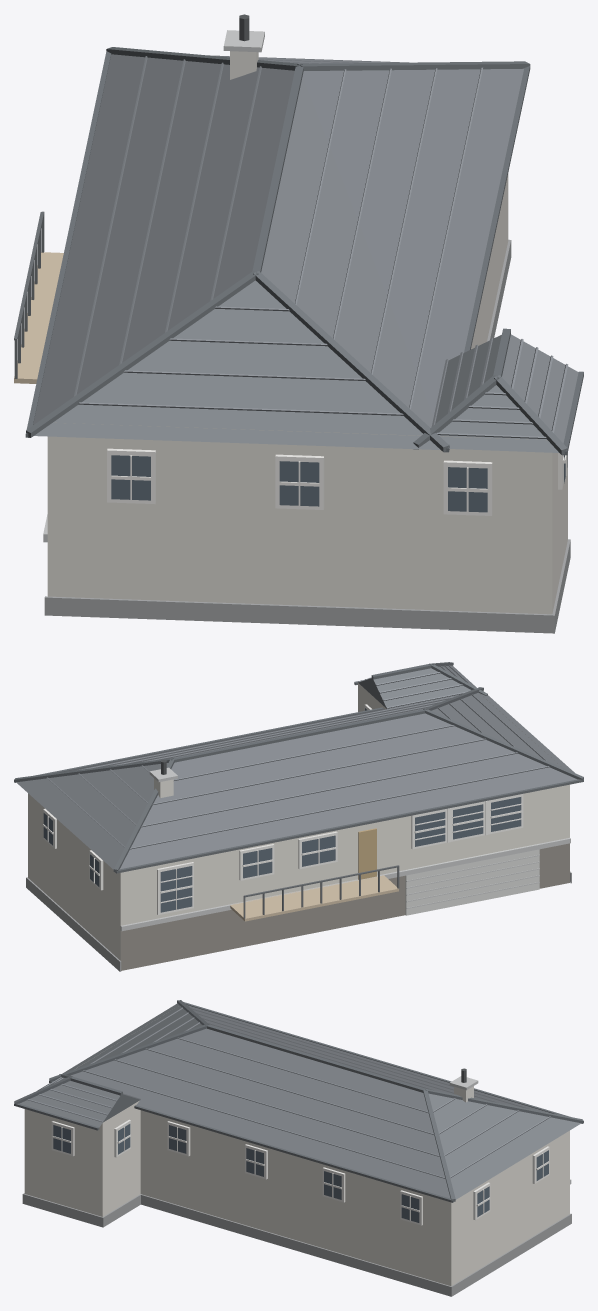
3 views of the same model, one above another, from view 1: azimuth 30°, elevation 25°; view 2: azimuth 150°, elevation 25°; view 3: azimuth 270°, elevation 25° (orthographic). The views are drawn at different scales.
Visible parts, largest first — view 1: slate, harl_grey, slate_dk, slate_lt, plinth, frame, larch, window_glass_008, window_glass_007, window_glass_009, band_dark, stone_band; view 2: slate, harl_grey, rubble_dk, slate_dk, slate_lt, door_cad, frame, stone_band, larch, window_glass_001, plinth, band_dark (+6 smaller); view 3: slate, harl_grey, slate_dk, plinth, slate_lt, frame, window_glass_015, window_glass_010, window_glass_013, window_glass_014, window_glass_012.
Part boxes in pixels (x1,y1,x2,y2): slate: (33, 54, 578, 452); harl_grey: (47, 173, 567, 614); slate_dk: (25, 47, 583, 455); slate_lt: (74, 56, 568, 438); plinth: (44, 239, 570, 633); frame: (107, 448, 567, 515); larch: (14, 252, 63, 383); window_glass_008: (279, 461, 319, 506); window_glass_007: (111, 455, 150, 500); window_glass_009: (448, 467, 487, 512); band_dark: (14, 211, 44, 378); stone_band: (43, 30, 264, 542); slate: (16, 665, 577, 869); harl_grey: (28, 683, 569, 960); rubble_dk: (120, 843, 569, 970); slate_dk: (14, 662, 583, 873); slate_lt: (47, 665, 549, 849); door_cad: (405, 844, 539, 915); frame: (43, 704, 523, 914); stone_band: (120, 767, 570, 931); larch: (230, 875, 398, 921); window_glass_001: (160, 866, 192, 912); plinth: (26, 871, 571, 971); band_dark: (243, 865, 399, 918); slate: (19, 1003, 580, 1199); harl_grey: (24, 1043, 569, 1285); slate_dk: (14, 1000, 583, 1202); plinth: (22, 1193, 571, 1296); slate_lt: (27, 1007, 550, 1178); frame: (51, 1119, 549, 1225); window_glass_015: (401, 1194, 419, 1222); window_glass_010: (53, 1125, 70, 1153); window_glass_013: (246, 1148, 263, 1176); window_glass_014: (324, 1171, 341, 1199); window_glass_012: (169, 1125, 186, 1153).
Size of the model in its own units: 19.79 by 7.37 by 23.84.
